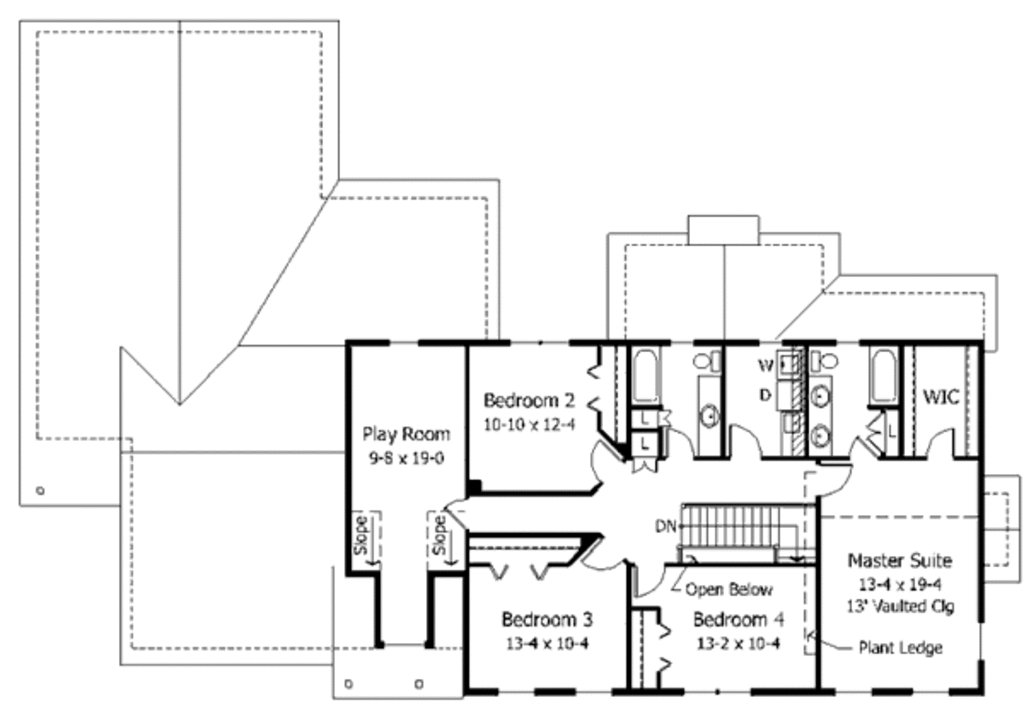door: (588, 435, 624, 484), (724, 420, 762, 464), (812, 458, 854, 494), (921, 422, 958, 459), (633, 558, 666, 599), (581, 537, 620, 570), (439, 499, 471, 534), (846, 435, 873, 463)
large_sink: (685, 345, 723, 378), (808, 346, 843, 381)
small_sink: (803, 375, 836, 455), (694, 379, 721, 462)
stairs: (655, 502, 821, 555)
tub: (865, 348, 904, 405), (628, 344, 662, 404)
windows: (506, 335, 571, 349), (382, 330, 424, 349), (905, 682, 954, 697), (834, 683, 875, 698)
